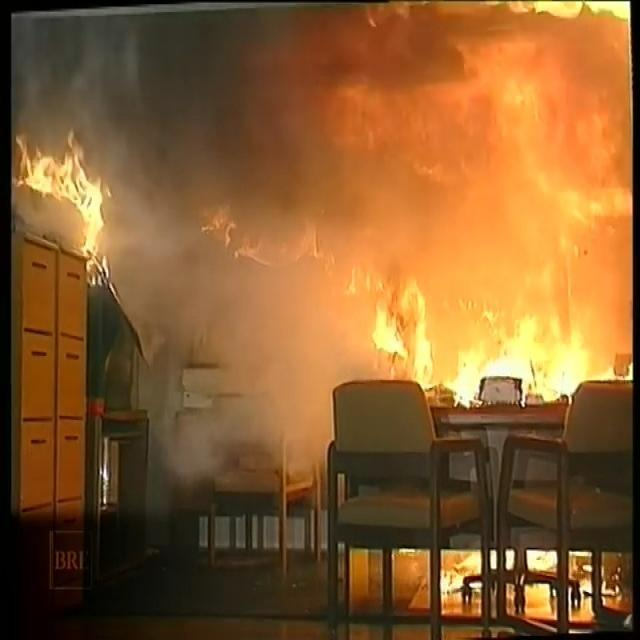Fire: (360, 270, 598, 395), (12, 100, 165, 253)
